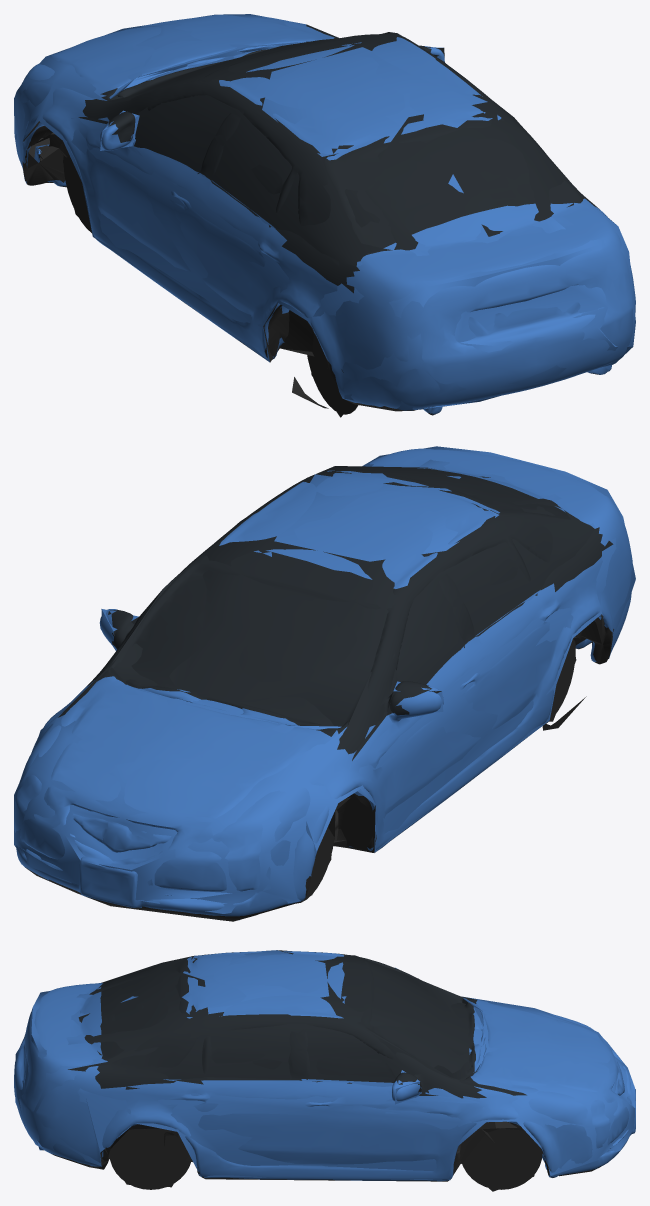
Rendered from acura-tl.glb.
3 views of the same model, one above another, from view 1: azimuth 30°, elevation 25°; view 2: azimuth 150°, elevation 25°; view 3: azimuth 270°, elevation 25° (orthographic). The views are drawn at different scales.
Parts seen in each view (by area): view 1: body, far; view 2: body, far; view 3: body, far.
Part boxes in pixels (left/top/right/bottom): body: left=14, top=14, right=635, bottom=415; far: left=14, top=14, right=635, bottom=417; body: left=14, top=448, right=632, bottom=921; far: left=14, top=446, right=635, bottom=920; body: left=14, top=951, right=635, bottom=1189; far: left=15, top=950, right=635, bottom=1191.
Size of the model in its own units: 2.31 by 1.56 by 4.99.
